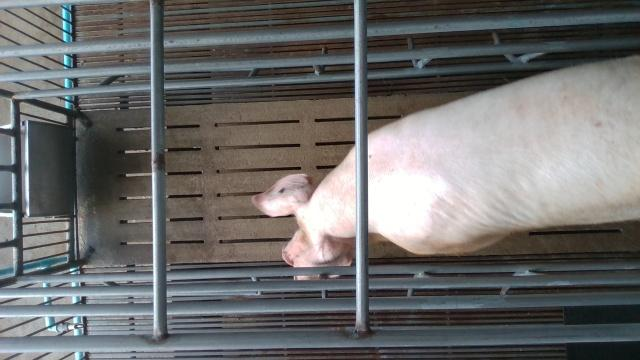sow-stand: (252, 52, 640, 281)
